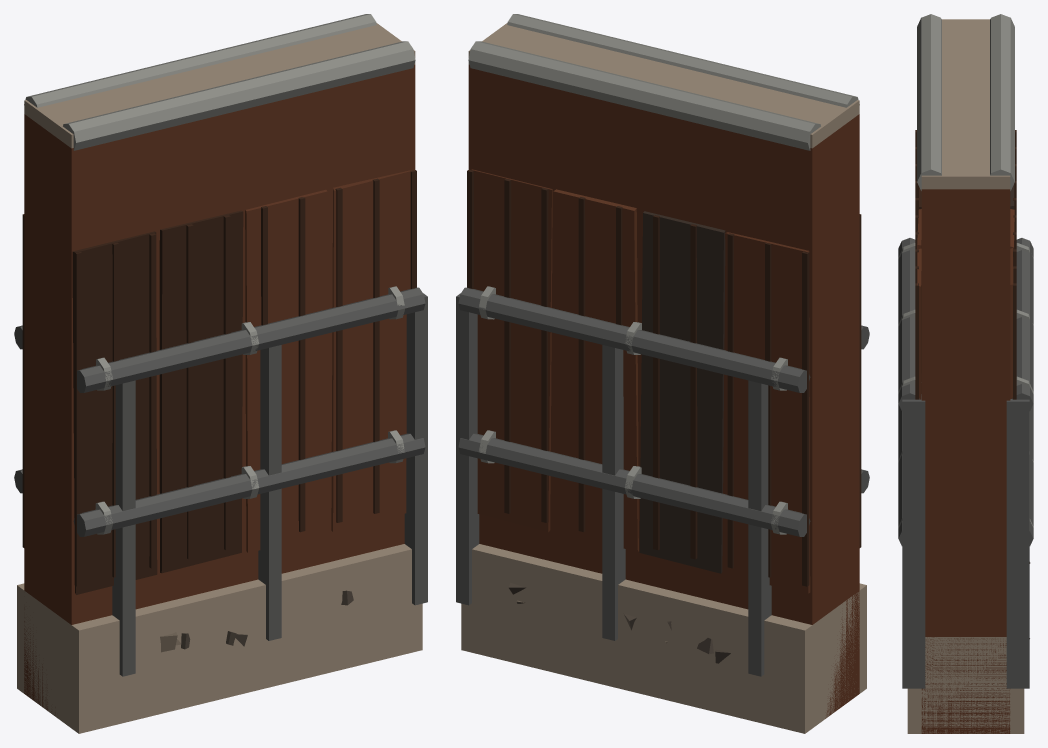
Rendered from fort_pumpworks_wall.glb.
3 renders of one model, left to right at view 1: azimuth 30°, elevation 25°; view 2: azimuth 150°, elevation 25°; view 3: azimuth 270°, elevation 25°, orthographic. The views are drawn at different scales.
Visible parts, largest first — view 1: fort_pumpworks_wall; view 2: fort_pumpworks_wall; view 3: fort_pumpworks_wall.
Part boxes in pixels (x1=…): fort_pumpworks_wall: x1=14, y1=14, x2=427, y2=733; fort_pumpworks_wall: x1=456, y1=14, x2=869, y2=733; fort_pumpworks_wall: x1=898, y1=14, x2=1033, y2=733.
Size of the model in its own units: 8.05 by 13.35 by 2.9.
